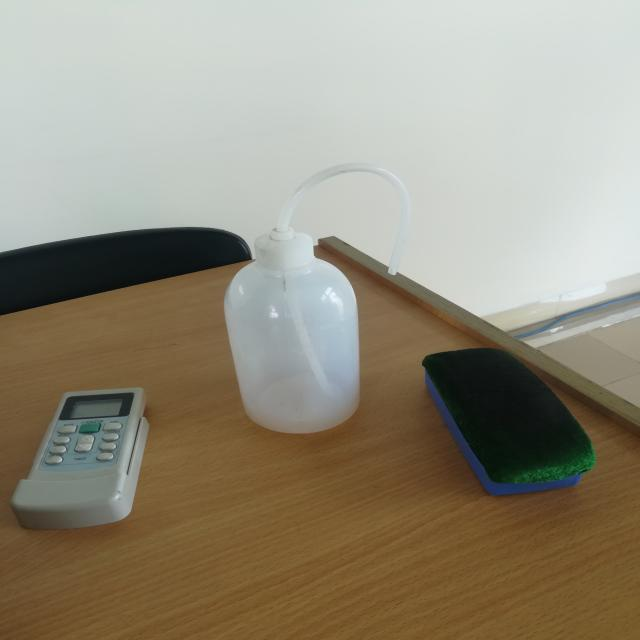Wash_Bottle: (196, 121, 447, 461)
